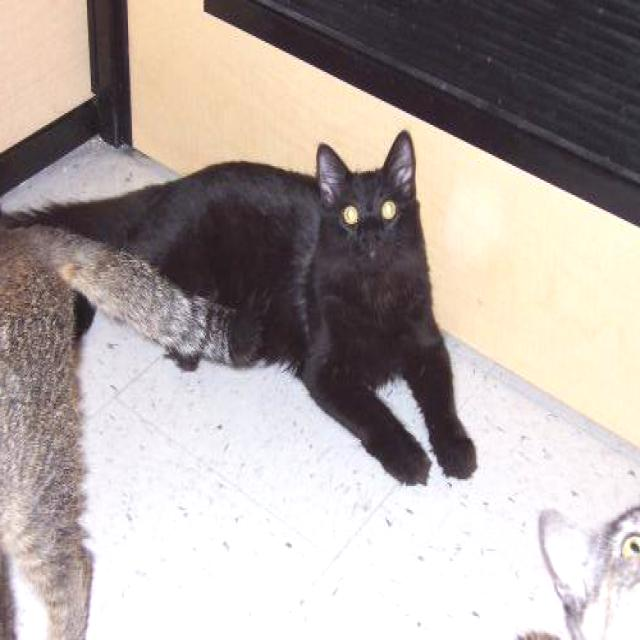Kucing: (170, 127, 466, 484)
